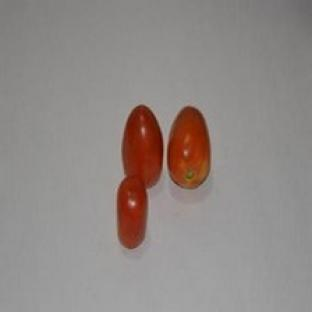Tomato: (168, 106, 210, 188), (122, 105, 162, 188), (117, 176, 147, 249)
